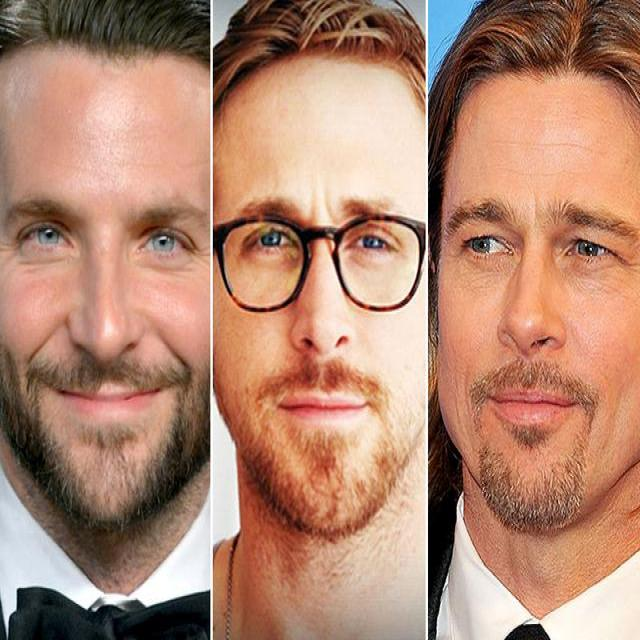beard: (5, 338, 215, 543), (218, 365, 424, 548), (472, 360, 594, 533)
hair: (423, 0, 638, 235)
